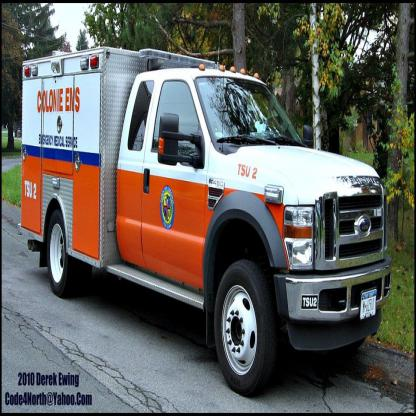Truck: (15, 25, 392, 397)
